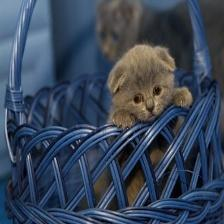kedo: (109, 45, 191, 129)
